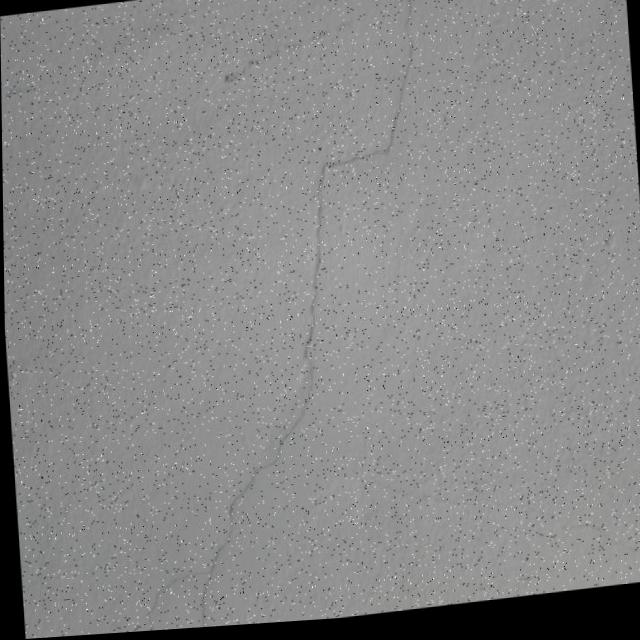Crack: (77, 0, 484, 636)
